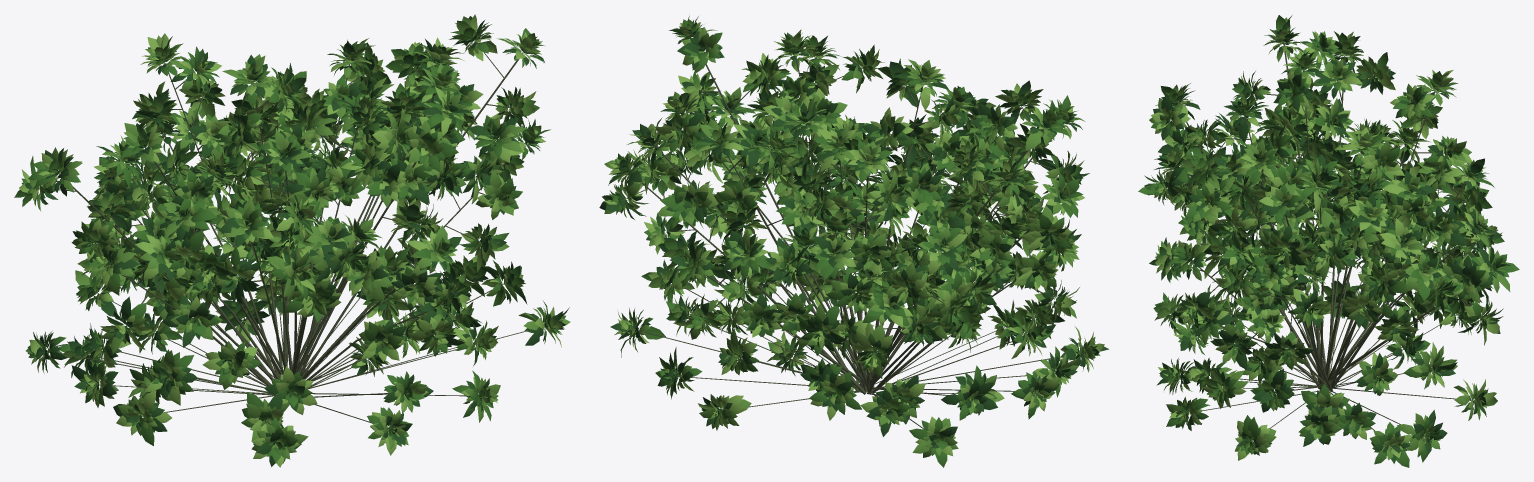
The model's file is shrub-09-giant-green.glb.
The picture shows the model from 3 angles, left to right: view 1: azimuth 30°, elevation 25°; view 2: azimuth 150°, elevation 25°; view 3: azimuth 270°, elevation 25°; orthographic projection. The views are drawn at different scales.
Visible parts, largest first — view 1: foliage-2, foliage-1, foliage-3, foliage-4, branches; view 2: foliage-1, foliage-3, foliage-2, foliage-4, branches; view 3: foliage-1, foliage-2, foliage-4, foliage-3, branches.
Part boxes in pixels (box(x1,y1,x2,y2)): foliage-2: box(14, 27, 569, 462); foliage-1: box(19, 16, 565, 466); foliage-3: box(26, 16, 570, 463); foliage-4: box(19, 14, 562, 467); branches: box(39, 43, 544, 423); foliage-1: box(599, 28, 1108, 448); foliage-3: box(604, 16, 1095, 457); foliage-2: box(602, 19, 1100, 467); foliage-4: box(604, 16, 1104, 455); branches: box(626, 52, 1078, 429); foliage-1: box(1148, 20, 1510, 463); foliage-2: box(1138, 15, 1519, 467); foliage-4: box(1151, 30, 1508, 460); foliage-3: box(1149, 15, 1510, 459); branches: box(1181, 43, 1491, 440).
Bounding box in the file's own units: 2.94 × 2.12 × 2.26.
